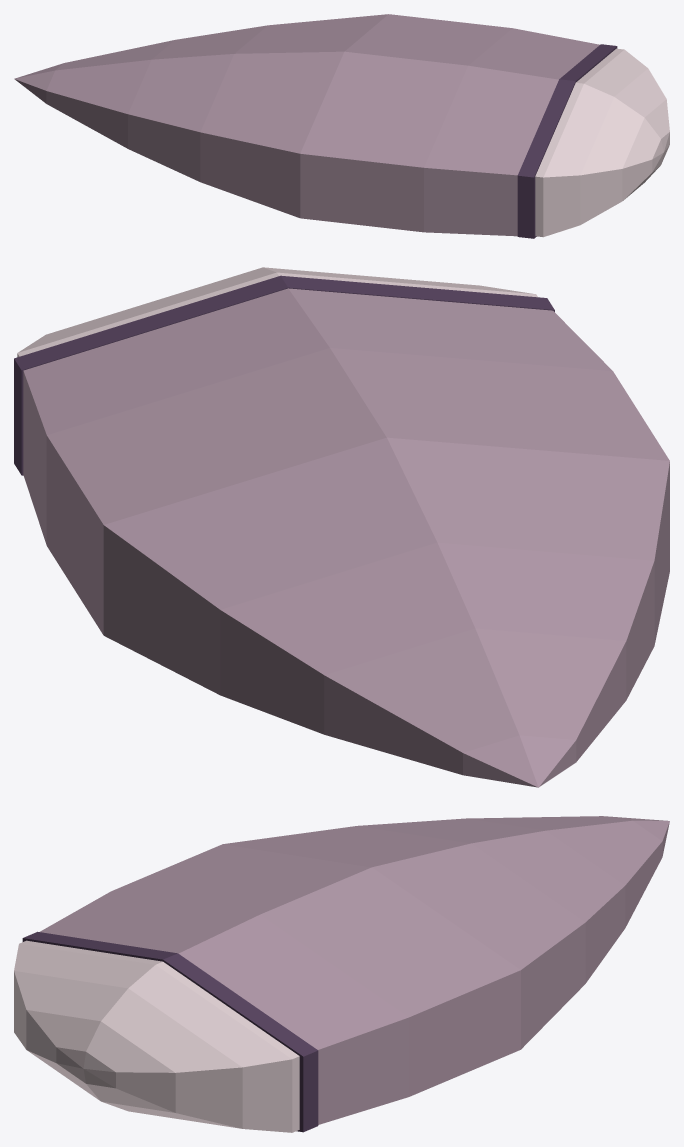
File: newshv-50.glb
The picture shows the model from 3 angles, top to bottom: view 1: azimuth 30°, elevation 25°; view 2: azimuth 150°, elevation 25°; view 3: azimuth 270°, elevation 25°; orthographic projection. The views are drawn at different scales.
Visible parts, largest first — view 1: newshv-50; view 2: newshv-50; view 3: newshv-50.
Part boxes in pixels (box(x1,y1,x2,y2)): newshv-50: box(14, 14, 669, 238); newshv-50: box(14, 267, 669, 787); newshv-50: box(14, 816, 669, 1132).
Bounding box in the file's own units: 1.56 × 0.4167 × 1.56.
